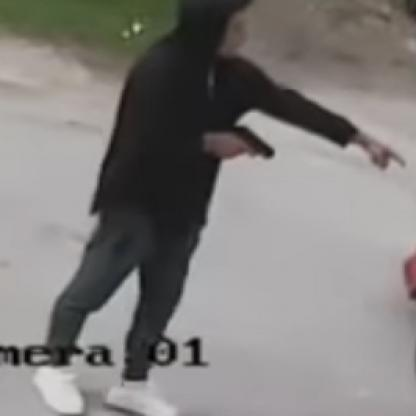criminal: (30, 0, 407, 416)
weapon: (228, 121, 277, 162)
